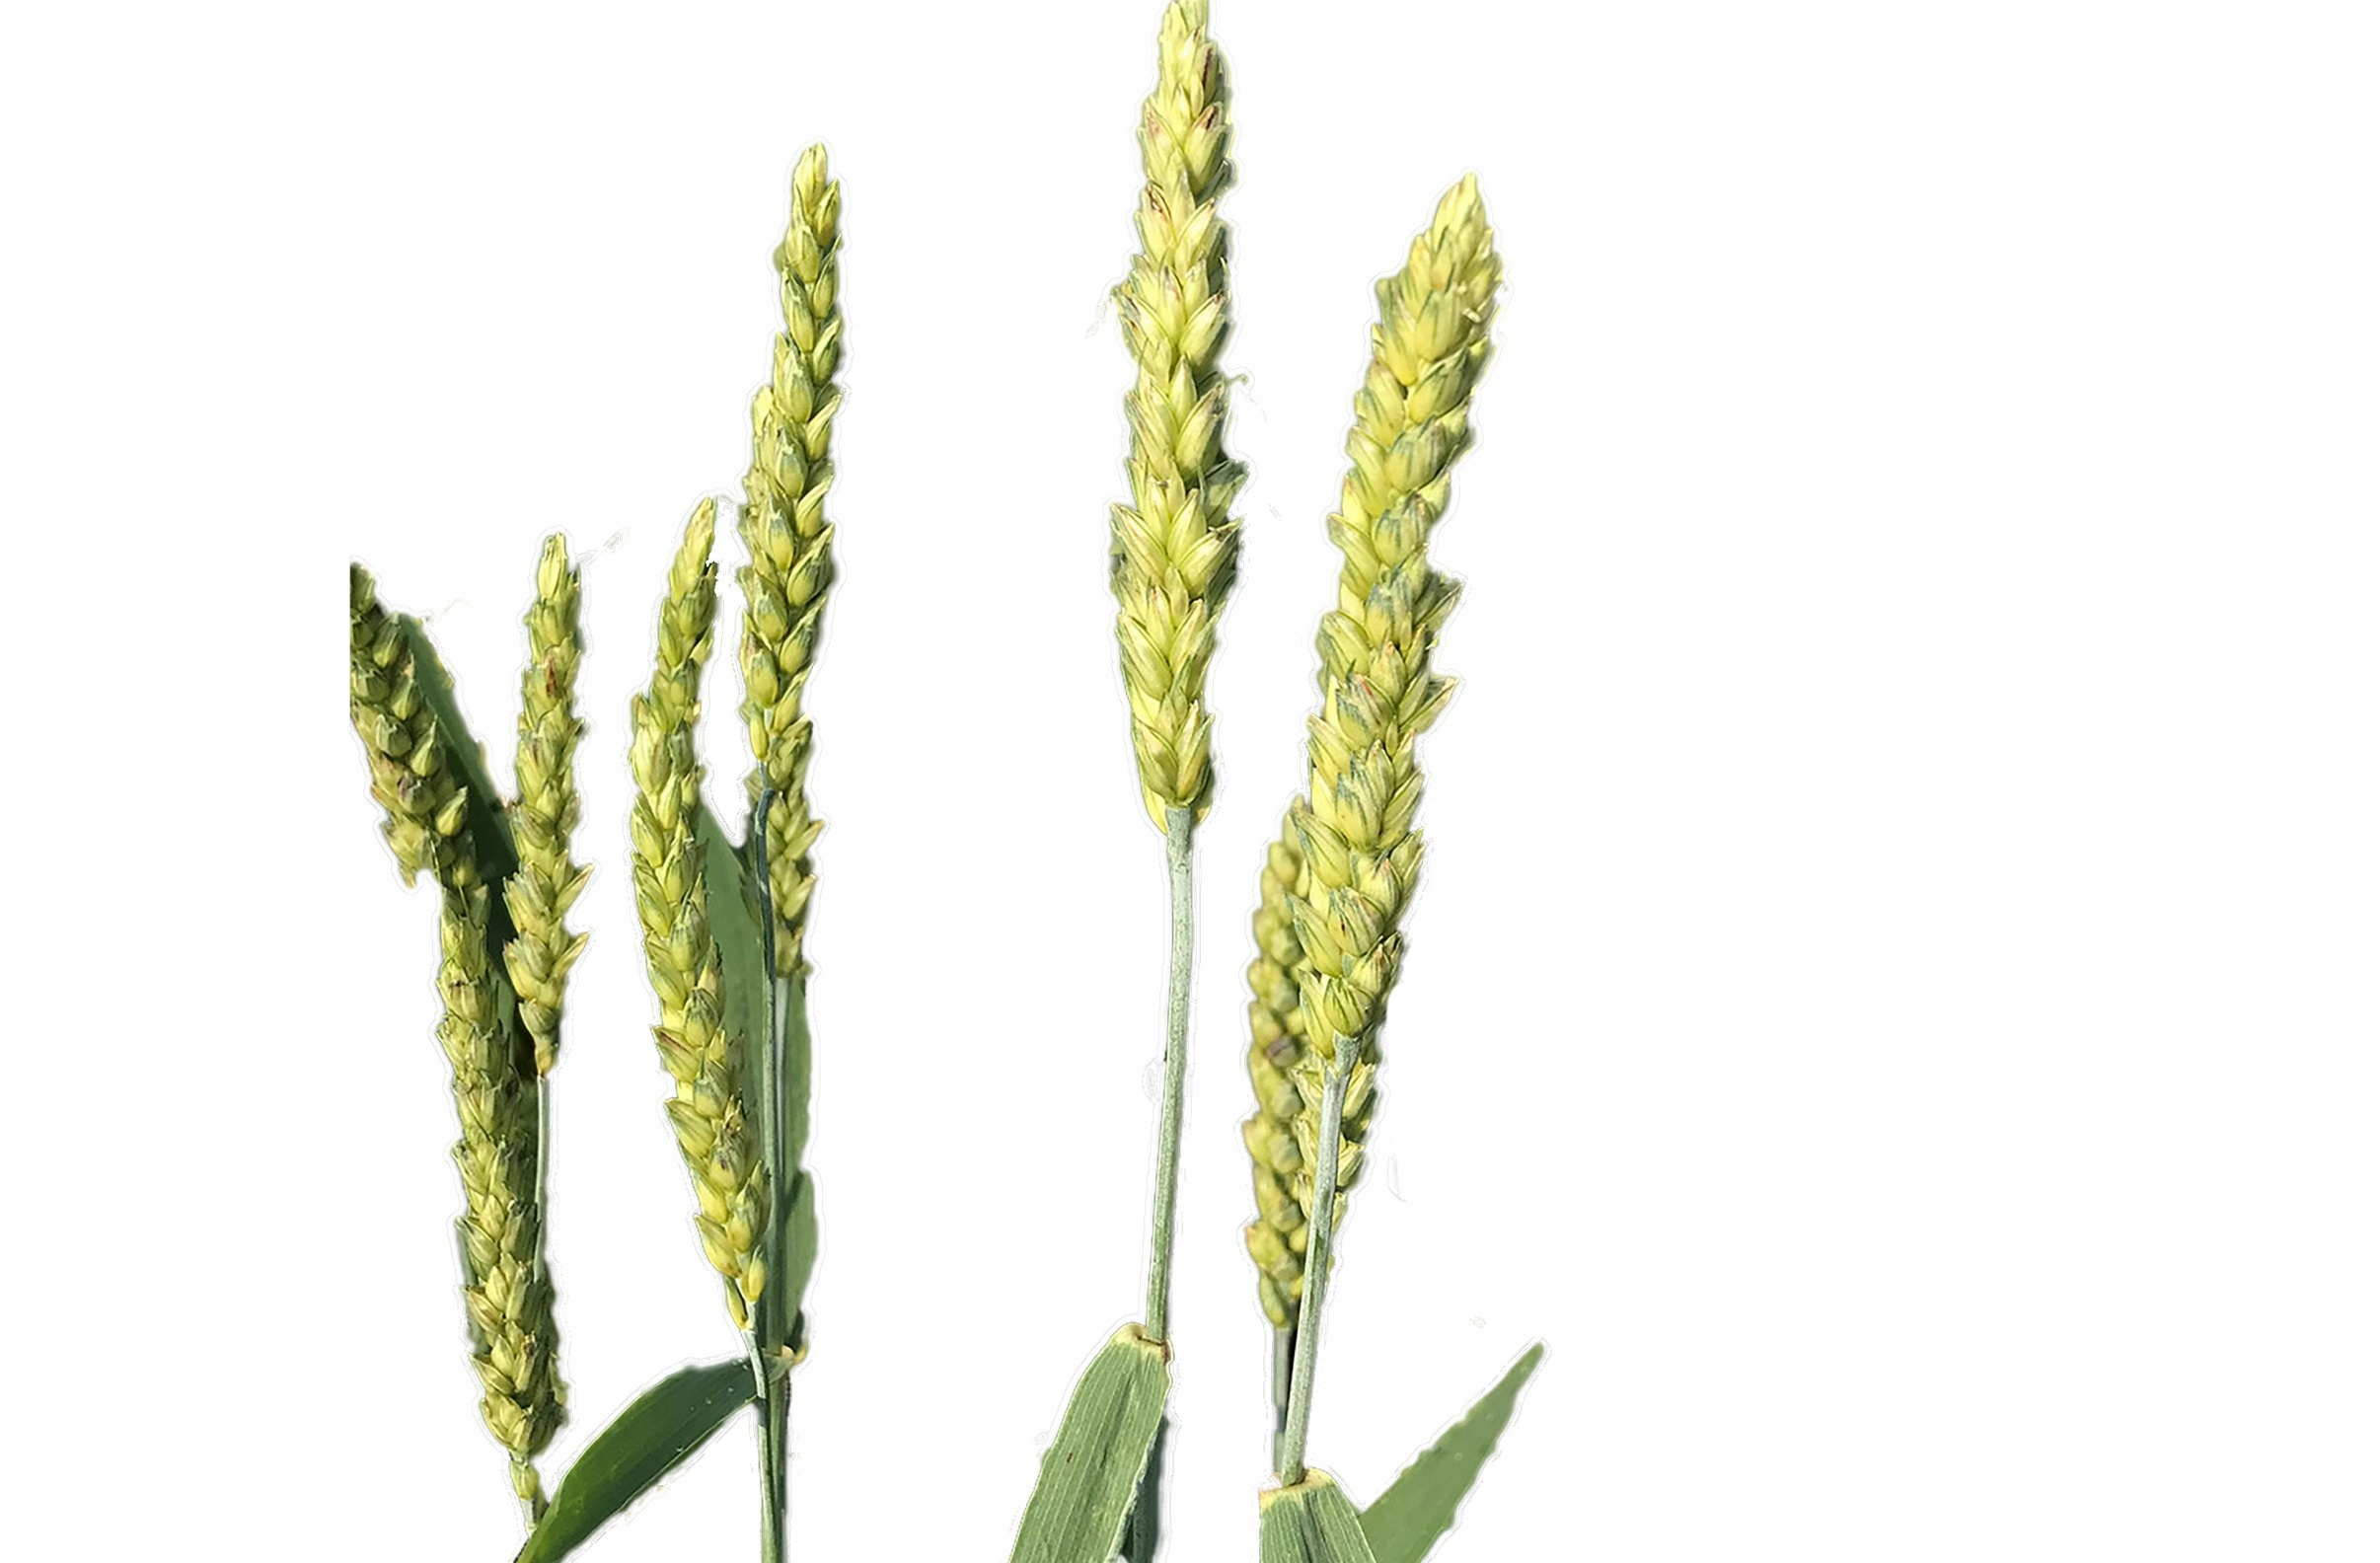wheat: (1233, 155, 1486, 1532), (622, 113, 868, 1451), (349, 492, 595, 1486), (1037, 5, 1259, 1041)
